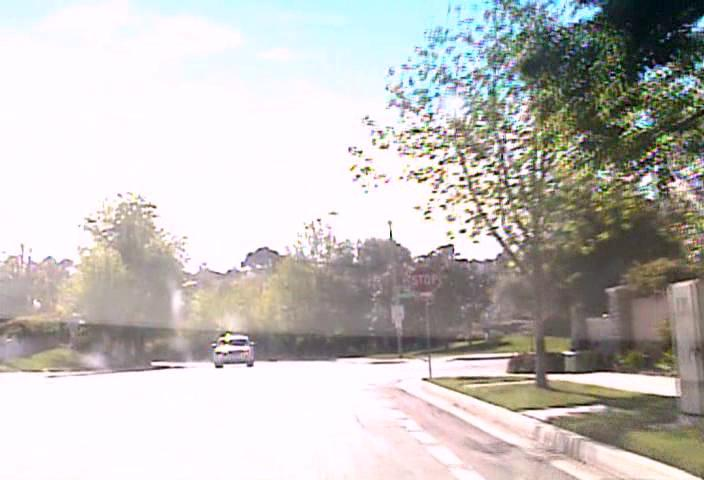stop: (409, 265, 440, 294)
